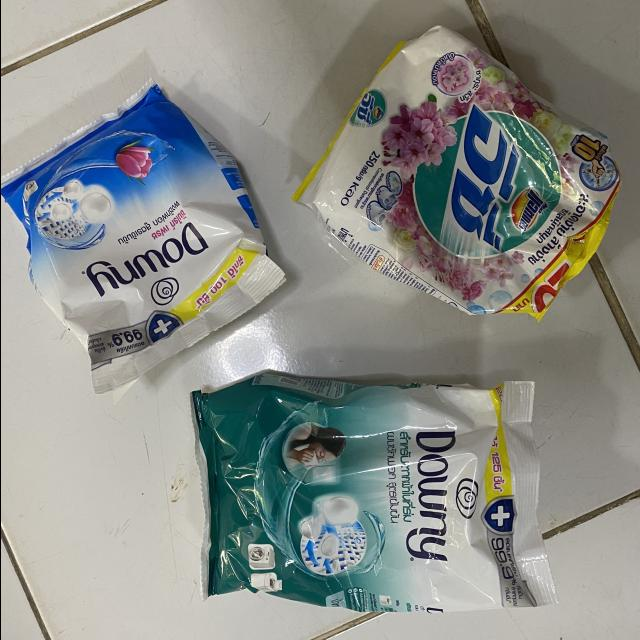plastik: (292, 27, 619, 320), (0, 82, 283, 397), (189, 374, 555, 612)
